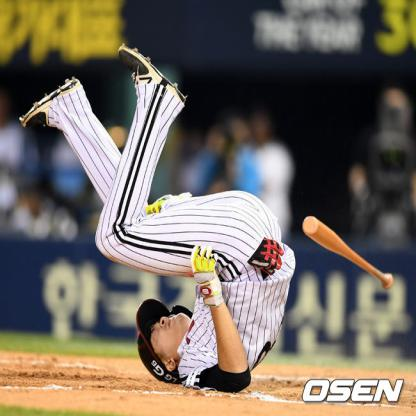Fall_Down: (21, 46, 290, 393)
